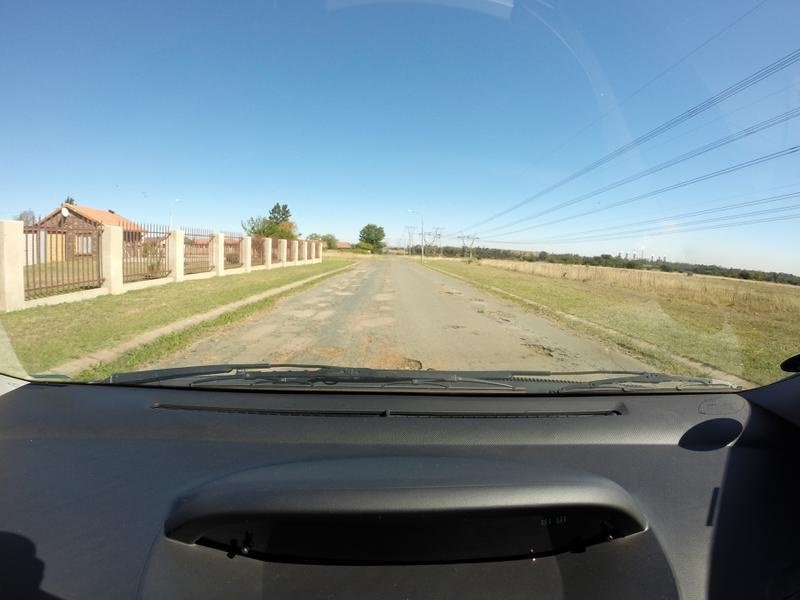pothole: (353, 345, 425, 370), (300, 329, 344, 361), (514, 336, 562, 364), (438, 318, 464, 338)
